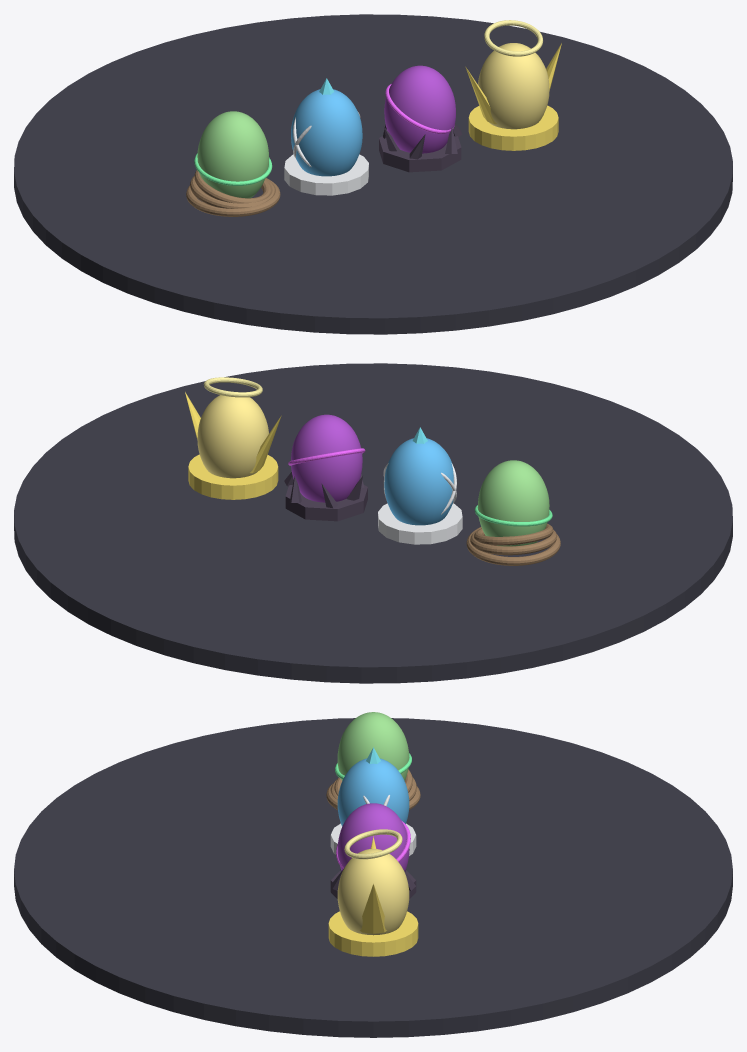
The model's file is Huevos_Mascotas_Spectacular.fbx.
The picture shows the model from 3 angles, top to bottom: view 1: azimuth 30°, elevation 25°; view 2: azimuth 150°, elevation 25°; view 3: azimuth 270°, elevation 25°; orthographic projection.
Parts seen in each view (by area): view 1: Podio_Exhibicion, Huevo_Raro_Zafiro, Huevo_Epico_Amatista, Huevo_Comun_Bosque, Huevo_Legendario_Solar, Pedestal_Oro, Pedestal_Plata, Pedestal_Obsidiana, Nido_Anillo_0, Halo_Solar, Nido_Anillo_2, Nido_Anillo_1; view 2: Podio_Exhibicion, Huevo_Raro_Zafiro, Huevo_Epico_Amatista, Huevo_Legendario_Solar, Huevo_Comun_Bosque, Pedestal_Oro, Pedestal_Plata, Pedestal_Obsidiana, Nido_Anillo_0, Nido_Anillo_1, Nido_Anillo_2, Halo_Solar; view 3: Podio_Exhibicion, Huevo_Legendario_Solar, Huevo_Raro_Zafiro, Huevo_Comun_Bosque, Huevo_Epico_Amatista, Pedestal_Oro, Cone.007, Halo_Solar.
Part boxes in pixels (<box>): Podio_Exhibicion: <box>14,14,732,334</box>; Huevo_Raro_Zafiro: <box>291,89,362,176</box>; Huevo_Epico_Amatista: <box>384,65,455,153</box>; Huevo_Comun_Bosque: <box>197,111,269,198</box>; Huevo_Legendario_Solar: <box>478,43,549,129</box>; Pedestal_Oro: <box>468,105,558,150</box>; Pedestal_Plata: <box>284,154,368,195</box>; Pedestal_Obsidiana: <box>379,136,461,172</box>; Nido_Anillo_0: <box>186,178,280,216</box>; Halo_Solar: <box>484,20,542,56</box>; Nido_Anillo_2: <box>194,170,270,203</box>; Nido_Anillo_1: <box>190,176,274,208</box>; Podio_Exhibicion: <box>14,363,732,683</box>; Huevo_Raro_Zafiro: <box>384,438,453,525</box>; Huevo_Epico_Amatista: <box>291,414,362,502</box>; Huevo_Legendario_Solar: <box>197,395,268,478</box>; Huevo_Comun_Bosque: <box>477,460,549,546</box>; Pedestal_Oro: <box>188,454,278,499</box>; Pedestal_Plata: <box>378,503,462,544</box>; Pedestal_Obsidiana: <box>285,485,367,521</box>; Nido_Anillo_0: <box>466,527,560,565</box>; Nido_Anillo_1: <box>470,528,557,555</box>; Nido_Anillo_2: <box>474,523,553,545</box>; Halo_Solar: <box>203,377,262,397</box>; Podio_Exhibicion: <box>14,718,732,1037</box>; Huevo_Legendario_Solar: <box>337,849,409,935</box>; Huevo_Raro_Zafiro: <box>337,758,409,826</box>; Huevo_Comun_Bosque: <box>337,712,409,780</box>; Huevo_Epico_Amatista: <box>337,803,409,871</box>; Pedestal_Oro: <box>328,911,418,956</box>; Cone.007: <box>360,884,386,933</box>; Halo_Solar: <box>344,829,402,859</box>.
Size of the model in its own units: 1600 by 288 by 1600.
